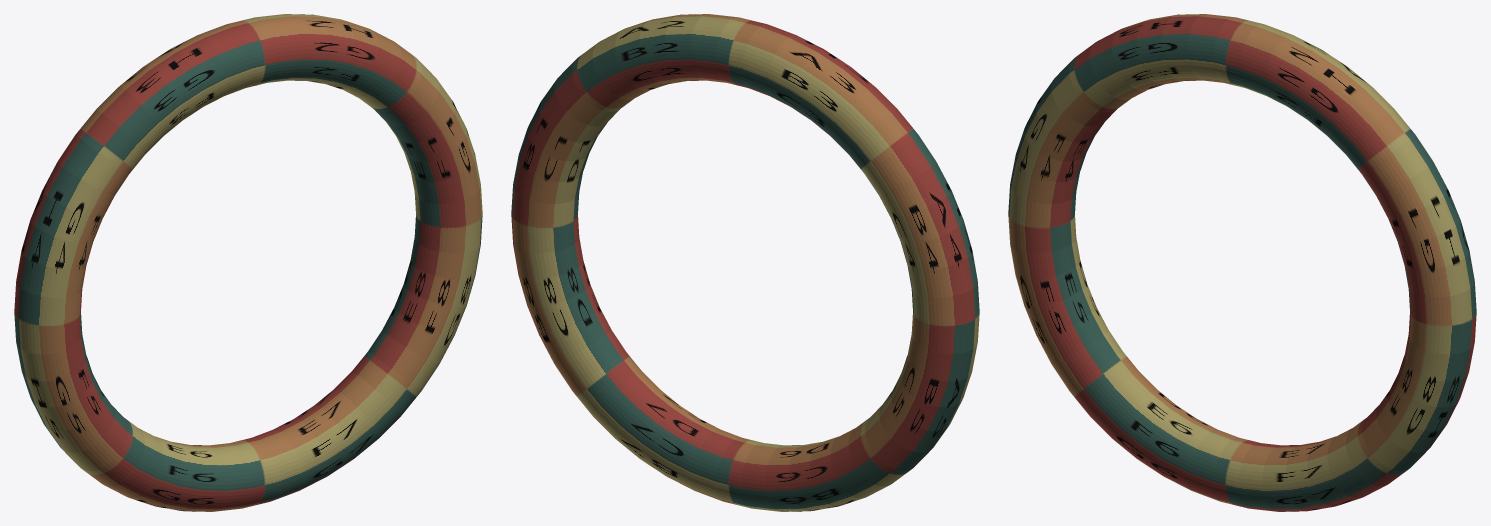
Rendered from texture_torus_R17_r4.glb.
The picture shows the model from 3 angles, left to right: view 1: azimuth 30°, elevation 25°; view 2: azimuth 150°, elevation 25°; view 3: azimuth 330°, elevation 25°; orthographic projection.
Parts seen in each view (by area): view 1: world; view 2: world; view 3: world.
Part boxes in pixels (bbox=[...]): world: bbox=[14, 14, 482, 511]; world: bbox=[511, 14, 979, 511]; world: bbox=[1008, 14, 1476, 511].
Size of the model in its own units: 24.4 by 24.35 by 3.06.
Materials: 1 (1 with a texture image).
